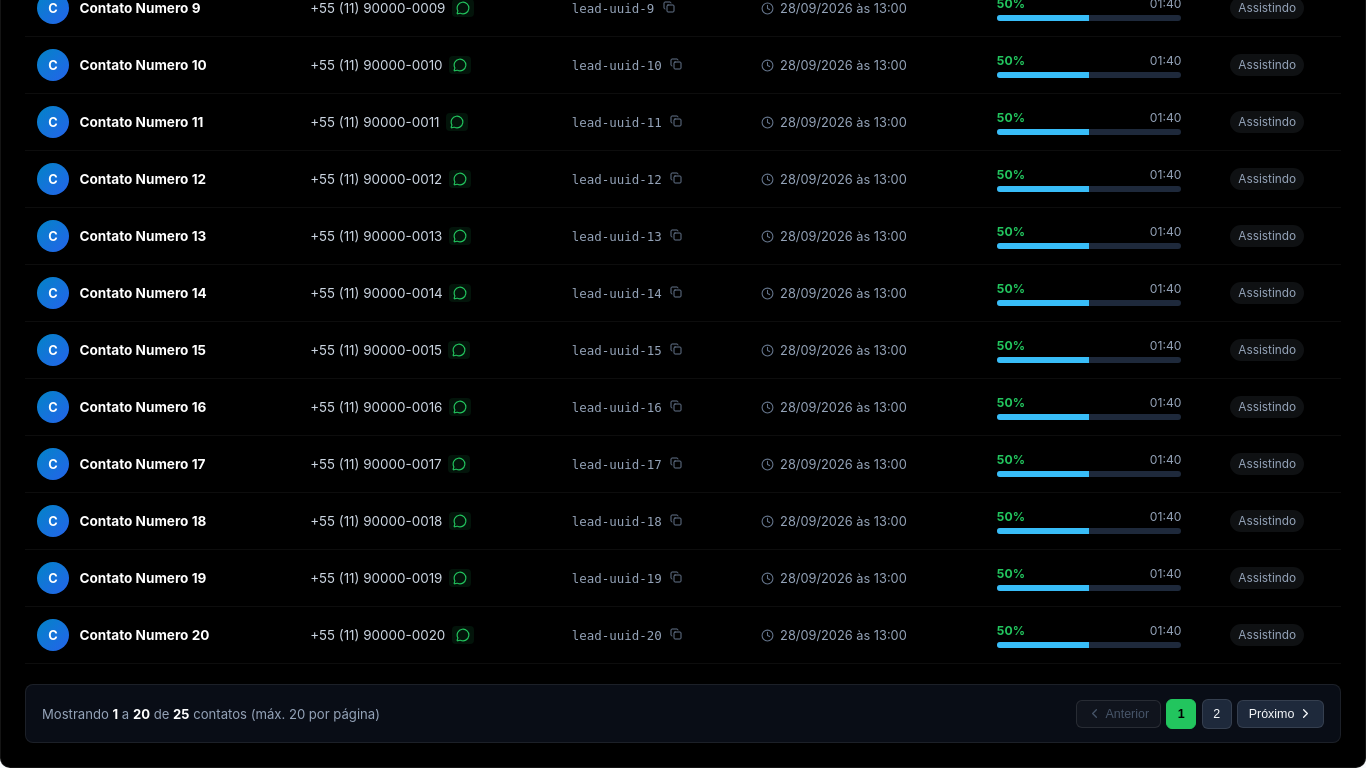
Scenario: VTurbLeadsTab - Rastreamento e Visualização de Contatos que Deram Play › exibe no máximo 20 contatos por página e permite navegar para a próxima página quando há mais de 20
The width and height of the screenshot is (1366, 768).
(page scrolled)
expect the text "Contato Numero 20" is shown: met, box [79, 627, 209, 643]
expect the text "Contato Numero 21" is not shown: met
// Clica para ir para a página 2
Click the button with test id "pagination-leads-next" at (1281, 714), box [1237, 700, 1324, 728]
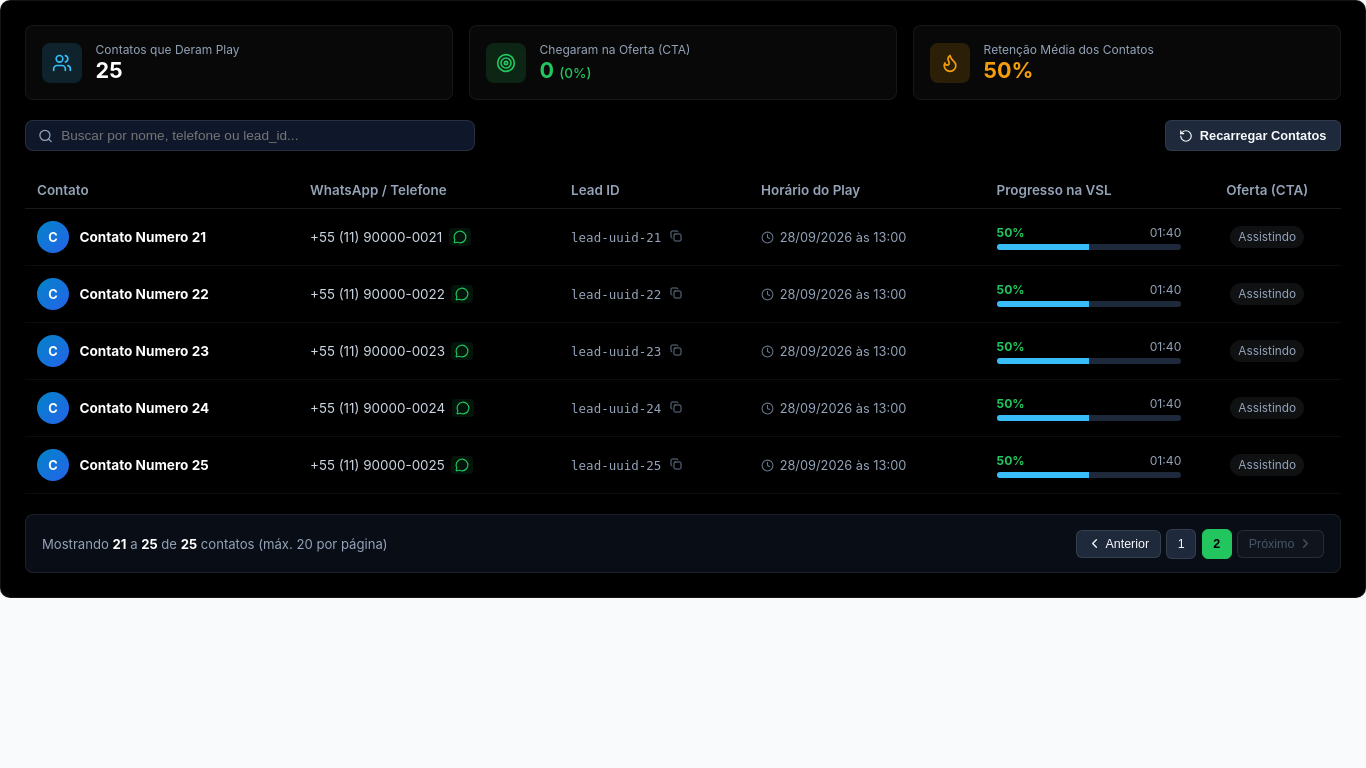
expect the text "Contato Numero 21" is shown: met, box [79, 229, 206, 245]
expect the text "Contato Numero 25" is shown: met, box [79, 457, 209, 473]
expect the text "Contato Numero 1" is gone: met
